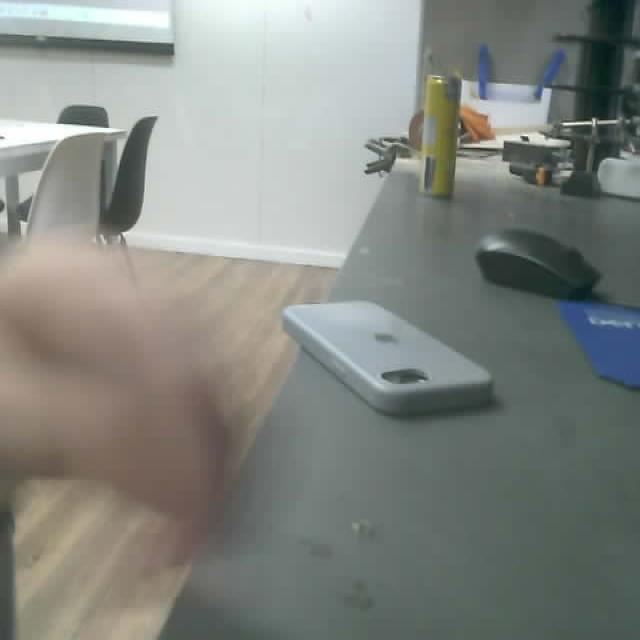phone: (280, 299, 495, 417)
